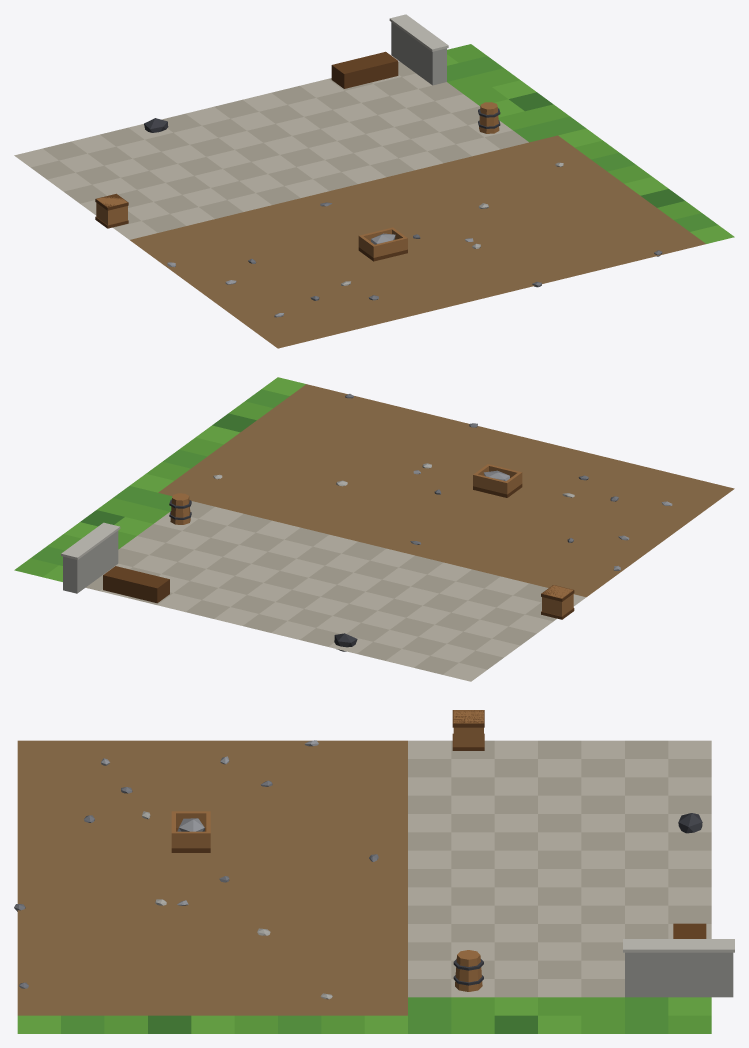
The model's file is chunk_3_7.glb.
3 renders of one model, top to bottom at view 1: azimuth 30°, elevation 25°; view 2: azimuth 150°, elevation 25°; view 3: azimuth 270°, elevation 25°, orthographic. The views are drawn at different scales.
Parts seen in each view (by area): view 1: chunk_3_7; view 2: chunk_3_7; view 3: chunk_3_7.
Boxes of the visible parts, left/top/right/bottom form: chunk_3_7: left=14, top=14, right=734, bottom=348; chunk_3_7: left=14, top=377, right=734, bottom=681; chunk_3_7: left=14, top=710, right=734, bottom=1033.
Size of the model in its own units: 16.17 by 1.54 by 16.63.
